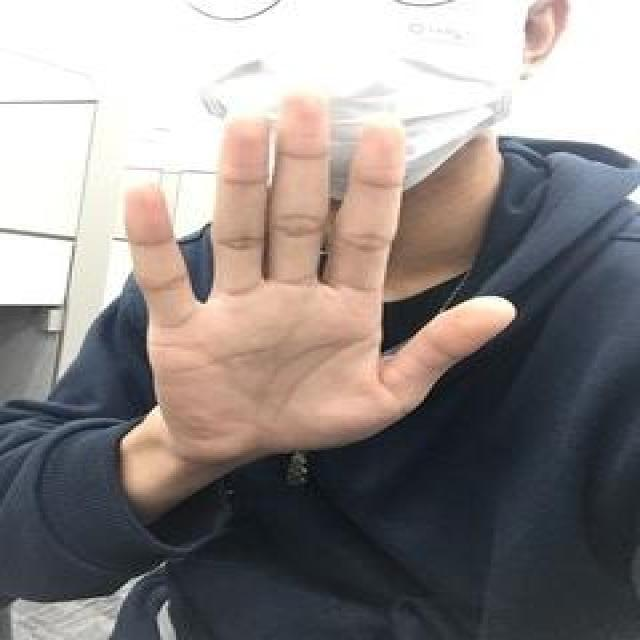hand: (125, 86, 518, 474)
